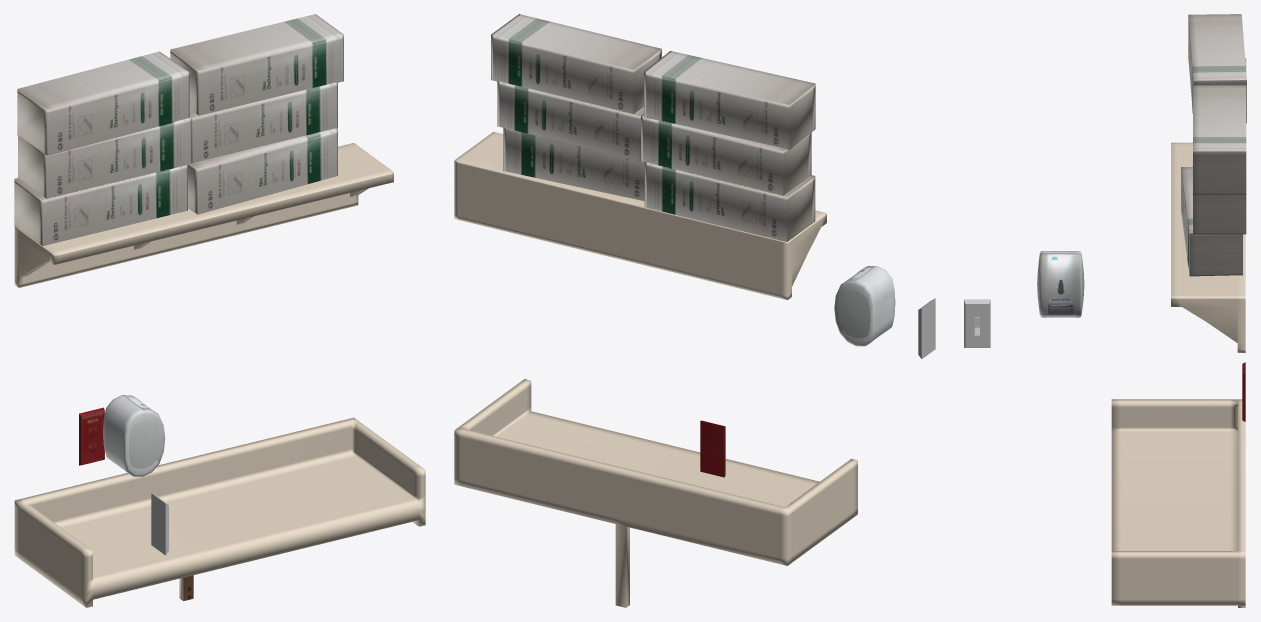
File: counter_by_fire_doors.fbx
3 renders of one model, left to right at view 1: azimuth 30°, elevation 25°; view 2: azimuth 150°, elevation 25°; view 3: azimuth 270°, elevation 25°, orthographic. The views are drawn at different scales.
Parts seen in each view (by area): view 1: counter, shelf, box4, box6, box1, box2, box5, box3, hand_sanitizer, outlet, light_switch; view 2: counter, shelf, box4, box6, box1, box2, box3, box5, hand_sanitizer, outlet, light_switch; view 3: counter, box6, shelf, box4, box5, hand_sanitizer, box3, light_switch.
Part boxes in pixels (x1=…): counter: x1=14, y1=417, x2=425, y2=607; shelf: x1=14, y1=143, x2=393, y2=287; box4: x1=17, y1=51, x2=189, y2=155; box6: x1=170, y1=14, x2=343, y2=115; box1: x1=14, y1=164, x2=187, y2=245; box2: x1=18, y1=116, x2=191, y2=198; box5: x1=188, y1=128, x2=337, y2=214; box3: x1=189, y1=82, x2=337, y2=162; hand_sanitizer: x1=103, y1=395, x2=165, y2=476; outlet: x1=79, y1=407, x2=104, y2=465; light_switch: x1=151, y1=493, x2=168, y2=555; counter: x1=454, y1=379, x2=857, y2=607; shelf: x1=454, y1=131, x2=826, y2=300; box4: x1=644, y1=51, x2=815, y2=149; box6: x1=491, y1=14, x2=661, y2=113; box1: x1=644, y1=162, x2=815, y2=241; box2: x1=641, y1=114, x2=811, y2=195; box3: x1=497, y1=81, x2=643, y2=160; box5: x1=503, y1=128, x2=644, y2=200; hand_sanitizer: x1=834, y1=266, x2=895, y2=346; outlet: x1=700, y1=420, x2=725, y2=477; light_switch: x1=918, y1=298, x2=935, y2=358; counter: x1=1111, y1=399, x2=1245, y2=607; box6: x1=1193, y1=85, x2=1246, y2=194; shelf: x1=1171, y1=142, x2=1245, y2=352; box4: x1=1188, y1=14, x2=1246, y2=123; box5: x1=1181, y1=166, x2=1242, y2=276; hand_sanitizer: x1=1037, y1=251, x2=1084, y2=317; box3: x1=1193, y1=194, x2=1246, y2=234; light_switch: x1=964, y1=299, x2=990, y2=347.
Bounding box in the file's own units: 4.1 × 6.36 × 3.17.
4 materials, 2 textured.
